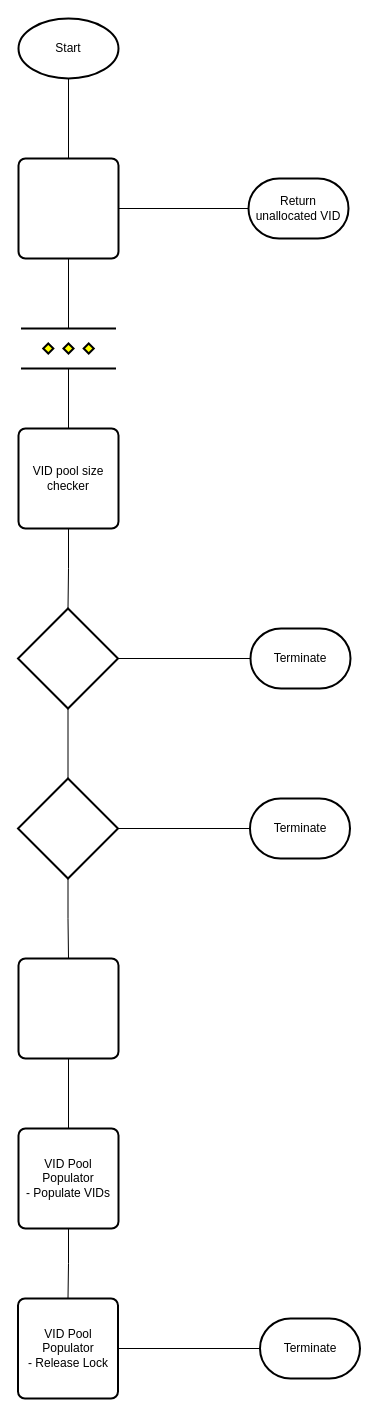
The diagram is 378 pixels wide and 1416 high, and some of its shapes have lost their labels. The shapes that lost their labels are listed below. From the top down, each one's centre as x and y in pixels, then its label:
point 68,208: VID Fetcher service
point 67,658: If poolsize < threshold
point 67,828: VID Pool Populator - is Locked
point 68,1008: VID Pool Populator - Acquire Lock
